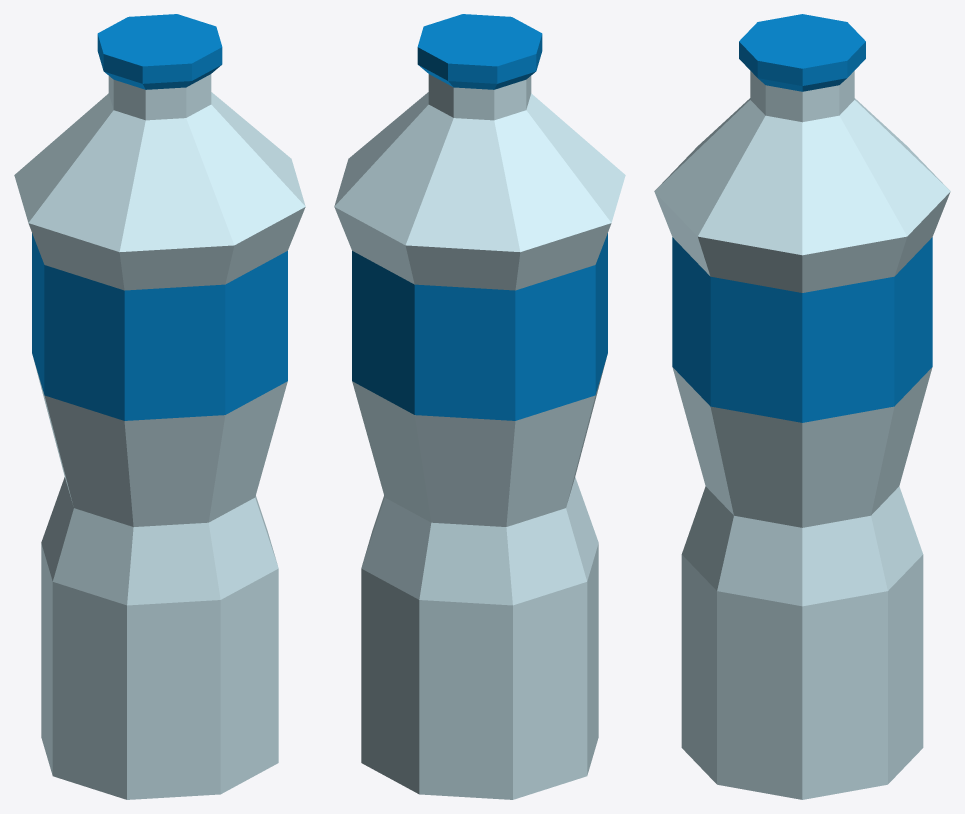
Rendered from Botellaagua.fbx.
The picture shows the model from 3 angles, left to right: view 1: azimuth 30°, elevation 25°; view 2: azimuth 150°, elevation 25°; view 3: azimuth 270°, elevation 25°; orthographic projection.
Parts seen in each view (by area): view 1: botella_de_agua; view 2: botella_de_agua; view 3: botella_de_agua.
Part boxes in pixels (bbox=[...]): botella_de_agua: bbox=[14, 14, 305, 799]; botella_de_agua: bbox=[334, 14, 625, 799]; botella_de_agua: bbox=[654, 14, 950, 799].
Size of the model in its own units: 3504 by 9028 by 3433.
